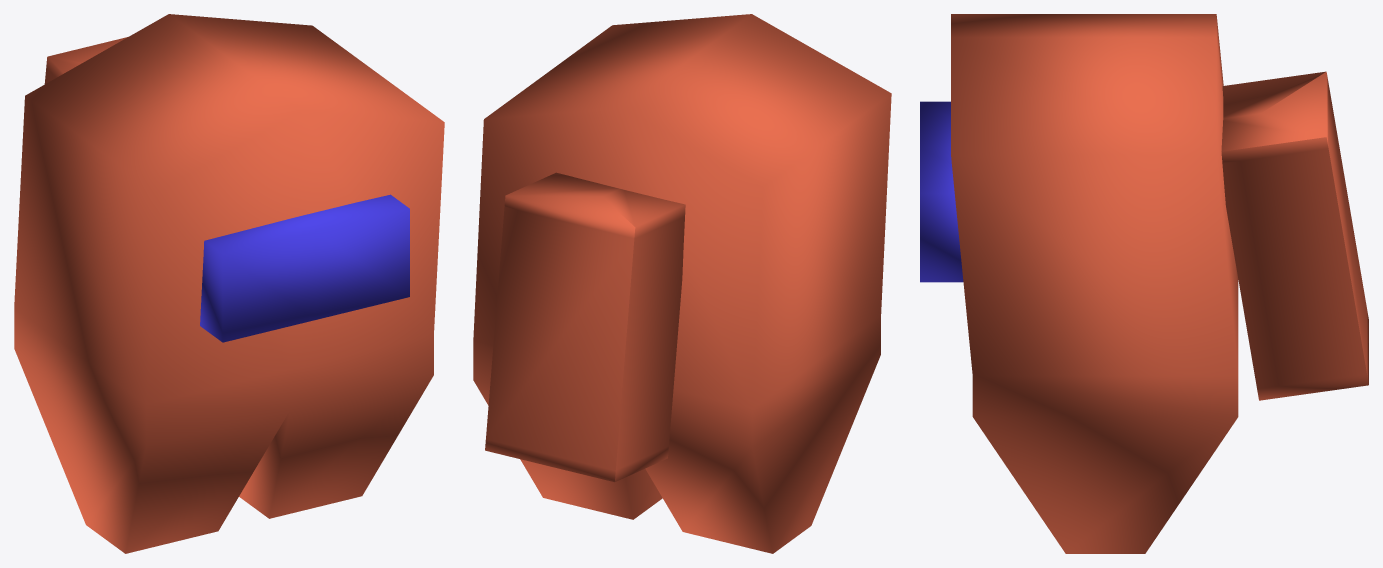
File: asset.glb
3 views of the same model, side by side, from view 1: azimuth 30°, elevation 25°; view 2: azimuth 150°, elevation 25°; view 3: azimuth 270°, elevation 25° (orthographic). The views are drawn at different scales.
Visible parts, largest first — view 1: Cube; view 2: Cube; view 3: Cube.
Part boxes in pixels (x1,y1,x2,y2): Cube: (14,14,444,553); Cube: (473,14,891,553); Cube: (920,14,1368,553).
Size of the model in its own units: 19.59 by 29.69 by 26.36.
